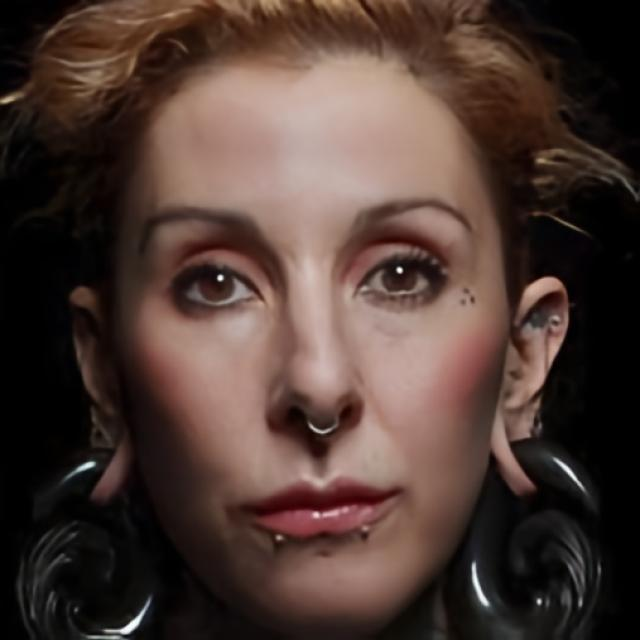neutral: (111, 33, 509, 640)
